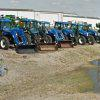Tractor: (10, 5, 64, 55)
